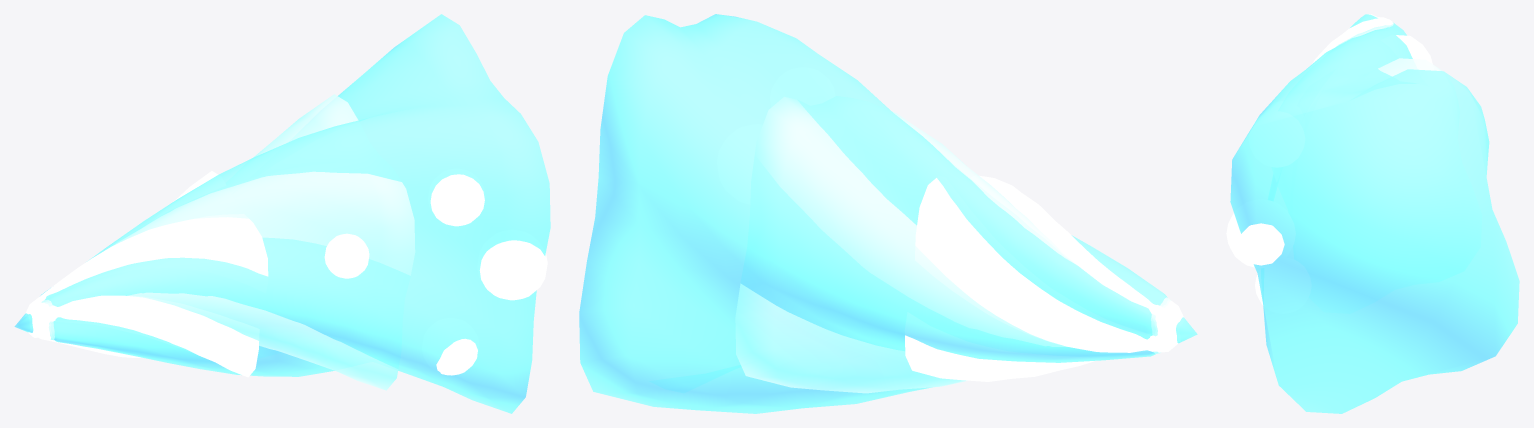
Rendered from VFX_05_五娃_剪纸卷浪水柱.glb.
3 renders of one model, left to right at view 1: azimuth 30°, elevation 25°; view 2: azimuth 150°, elevation 25°; view 3: azimuth 270°, elevation 25°, orthographic. The views are drawn at different scales.
Parts seen in each view (by area): view 1: WaterCone_0, WaterCone_1, WaterCone_2, Sphere.002, Sphere.001, Sphere.003, Sphere; view 2: WaterCone_0, WaterCone_1, WaterCone_2, Sphere.002, Sphere.001; view 3: WaterCone_0, WaterCone_1, Sphere.002, Sphere.001, Sphere.003, WaterCone_2.
Part boxes in pixels (box(x1,y1,x2,y2)): WaterCone_0: box(14, 14, 550, 413); WaterCone_1: box(18, 94, 415, 390); WaterCone_2: box(25, 171, 268, 377); Sphere.002: box(478, 230, 547, 300); Sphere.001: box(428, 169, 484, 226); Sphere.003: box(422, 318, 478, 375); Sphere: box(324, 233, 369, 278); WaterCone_0: box(579, 14, 1197, 413); WaterCone_1: box(735, 96, 1193, 393); WaterCone_2: box(905, 175, 1184, 381); Sphere.002: box(717, 124, 761, 203); Sphere.001: box(770, 68, 834, 106); WaterCone_0: box(1230, 14, 1519, 413); WaterCone_1: box(1272, 15, 1481, 313); Sphere.002: box(1226, 200, 1295, 267); Sphere.001: box(1249, 112, 1304, 166); Sphere.003: box(1255, 258, 1310, 313); WaterCone_2: box(1310, 14, 1432, 67).
Size of the model in its own units: 3.36 by 2.41 by 1.85.
